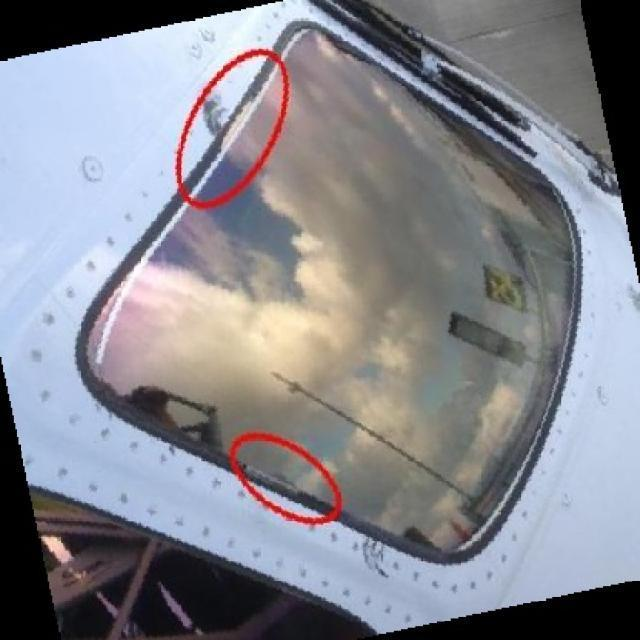crack: (363, 534, 385, 576)
